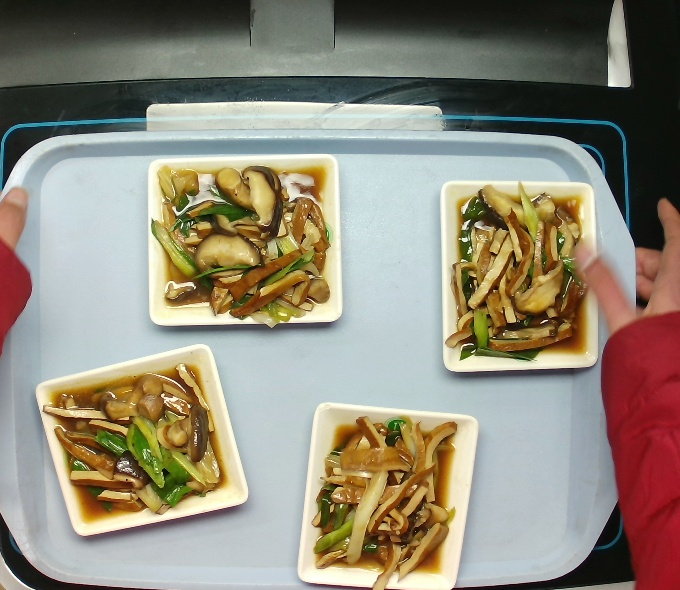wcq-XiangGuChaoXiangGan: (147, 164, 334, 337), (38, 357, 228, 522), (443, 176, 594, 372), (307, 411, 463, 590)
